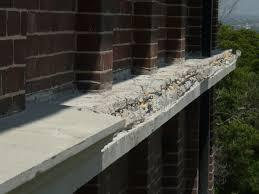spalling: (101, 51, 236, 153)
